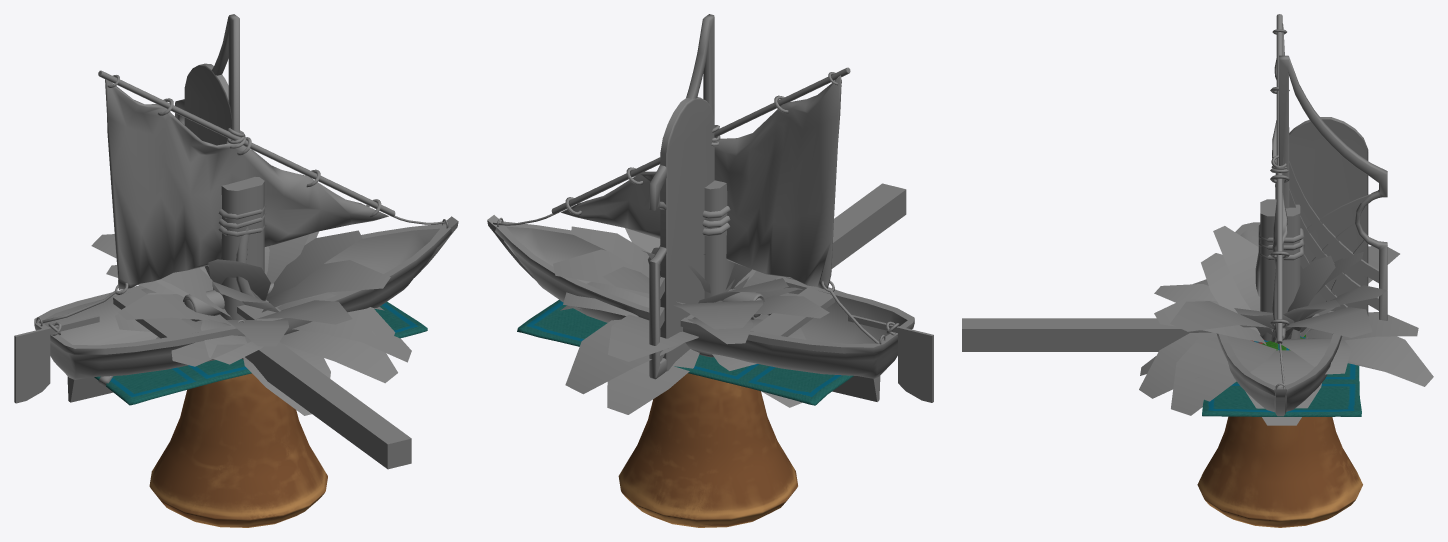
The model's file is Props.fbx.
3 renders of one model, left to right at view 1: azimuth 30°, elevation 25°; view 2: azimuth 150°, elevation 25°; view 3: azimuth 270°, elevation 25°, orthographic. The views are drawn at different scales.
Visible parts, largest first — view 1: SM_Boat, SM_Bell, SM_Plant1, SM_Plant2, SM_Rail1, SM_Carpet, SM_Column1, SM_Doors1, SM_Doors2, SM_ArcDoors, SM_WoodenPole1, SM_Telescope; view 2: SM_Boat, SM_Bell, SM_Plant1, SM_Doors1, SM_Plant2, SM_Doors2, SM_Carpet, SM_ArcDoors, SM_Rail1, SM_Column1, SM_WoodenPole1; view 3: SM_Bell, SM_Plant1, SM_Plant2, SM_ArcDoors, SM_Rail1, SM_Doors2, SM_Boat, SM_Doors1, SM_Carpet, SM_Column1, SM_WoodenPole1.
Part boxes in pixels (x1,y1,x2,y2): SM_Boat: (14,70,458,403); SM_Bell: (149,373,327,527); SM_Plant1: (106,230,411,415); SM_Plant2: (91,231,397,383); SM_Rail1: (225,323,411,469); SM_Carpet: (94,301,427,405); SM_Column1: (213,177,264,319); SM_Doors1: (184,65,232,278); SM_Doors2: (184,63,232,277); SM_ArcDoors: (175,14,239,143); SM_WoodenPole1: (218,204,266,297); SM_Telescope: (183,283,273,321); SM_Boat: (487,67,933,402); SM_Bell: (618,373,797,527); SM_Plant1: (562,226,843,414); SM_Doors1: (660,99,714,371); SM_Plant2: (553,247,829,394); SM_Doors2: (660,97,714,370); SM_Carpet: (517,300,853,405); SM_ArcDoors: (649,14,714,379); SM_Rail1: (784,183,906,280); SM_Column1: (704,180,734,302); SM_WoodenPole1: (702,206,730,236); SM_Bell: (1197,416,1362,527); SM_Plant1: (1140,226,1418,425); SM_Plant2: (1139,246,1433,425); SM_ArcDoors: (1279,55,1387,320); SM_Rail1: (962,318,1211,351); SM_Doors2: (1289,117,1368,331); SM_Boat: (1216,14,1342,416); SM_Doors1: (1289,119,1368,332); SM_Carpet: (1202,363,1361,416); SM_Column1: (1260,199,1300,341); SM_WoodenPole1: (1255,224,1304,296).
Size of the model in its own units: 588 by 613 by 593.
